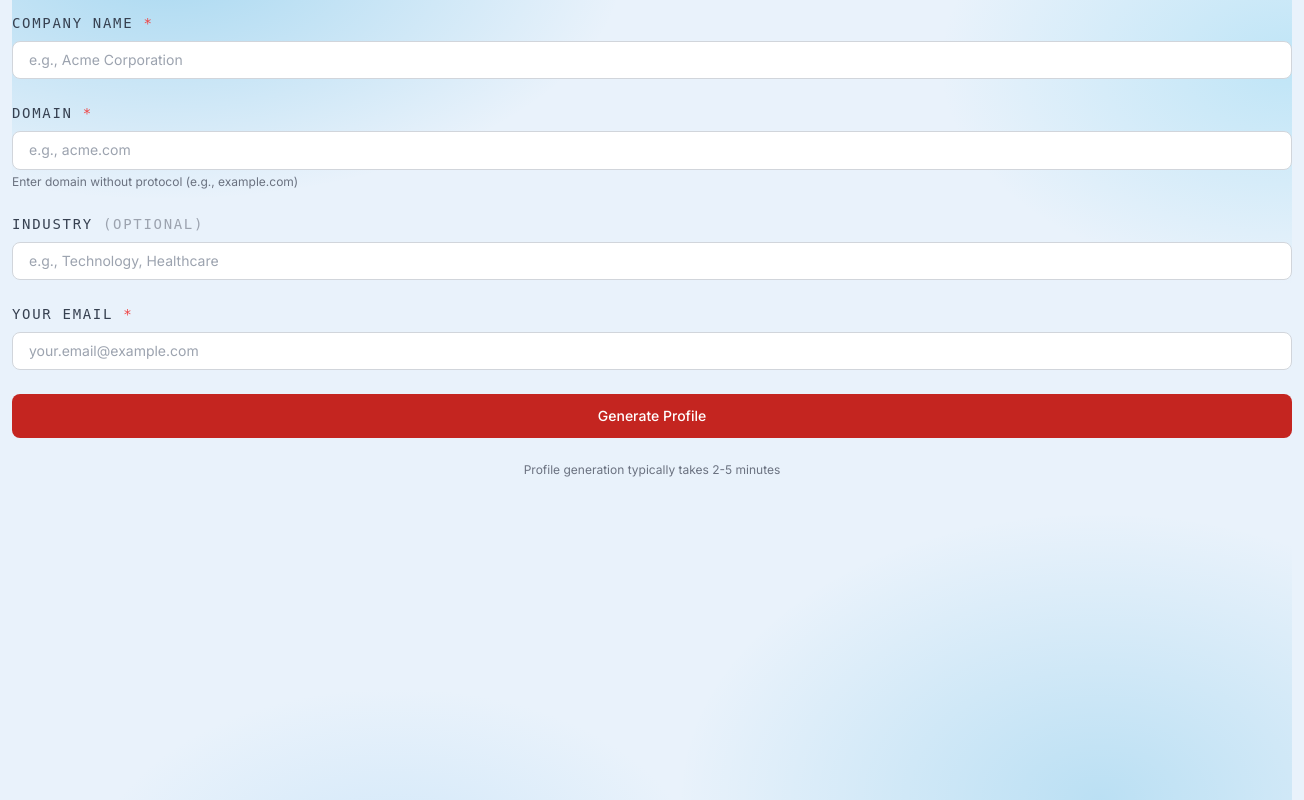
Test: ProfileRequestForm › should clear field error when user starts typing
The image size is (1304, 800).
Submit empty form to trigger validation errors
Click the button "Generate Profile" at (652, 416), box [12,394,1292,438]
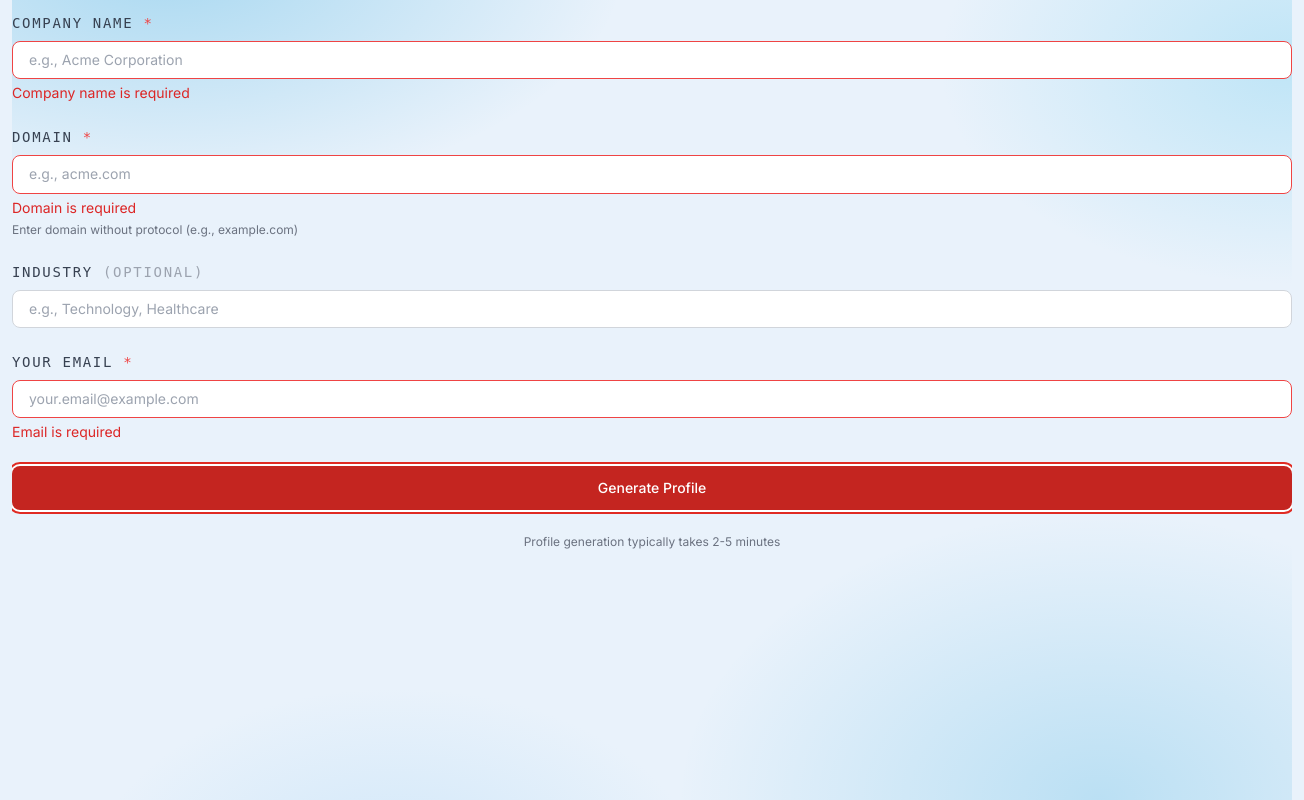
Result: the text "Company name is required" is shown at [12,84,190,101]
Start typing in company name field
Type "Acme" into the field labelled "Company Name *" at (652, 60), box [12,41,1292,79]
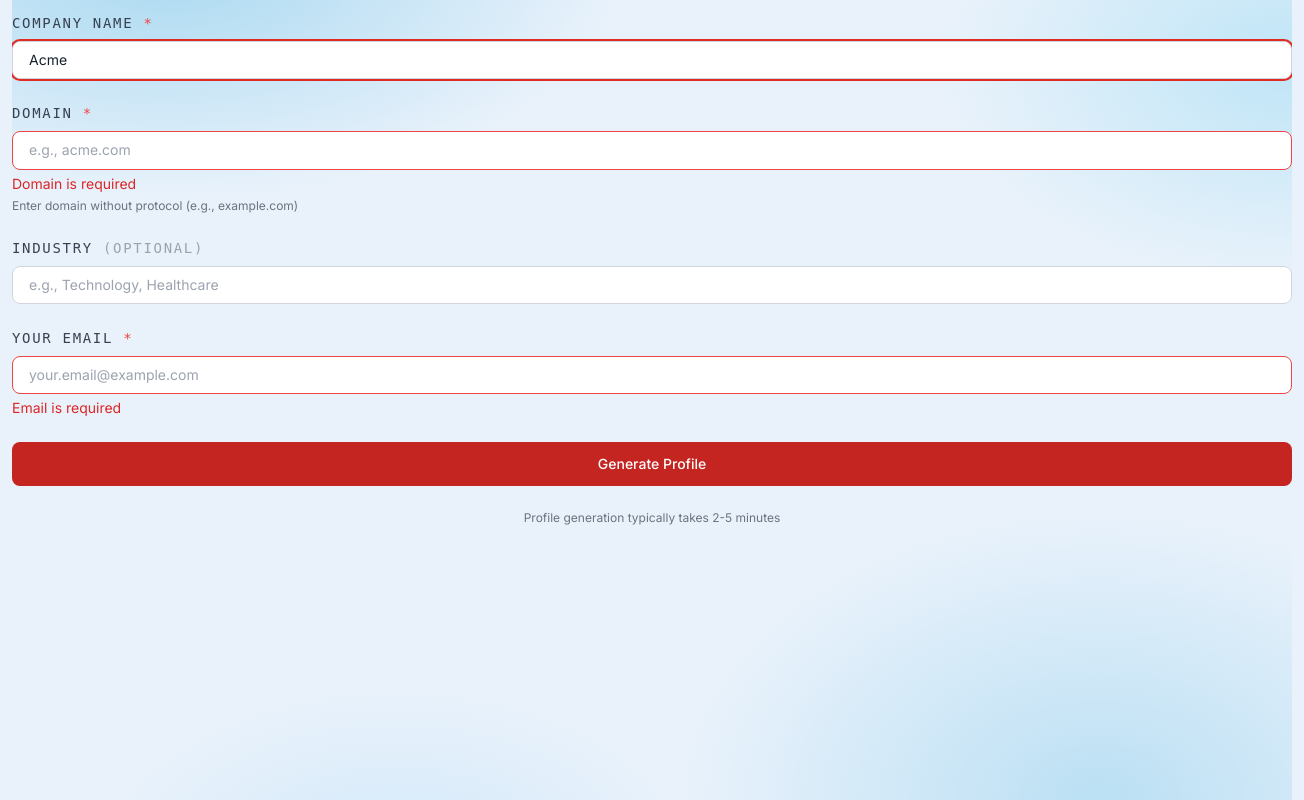
Result: the text "Company name is required" is gone
